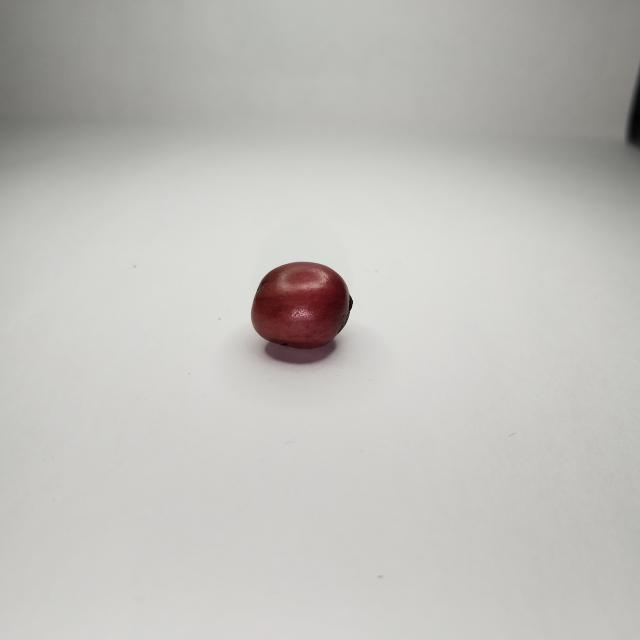Sano: (252, 262, 352, 352)
